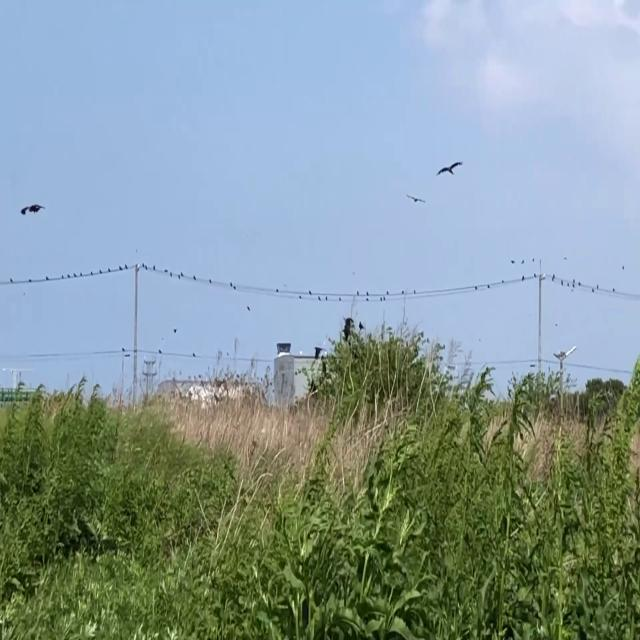bird: (438, 153, 462, 185), (21, 194, 43, 222), (407, 189, 425, 210)
